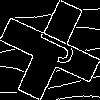J: (25, 25, 78, 67)
